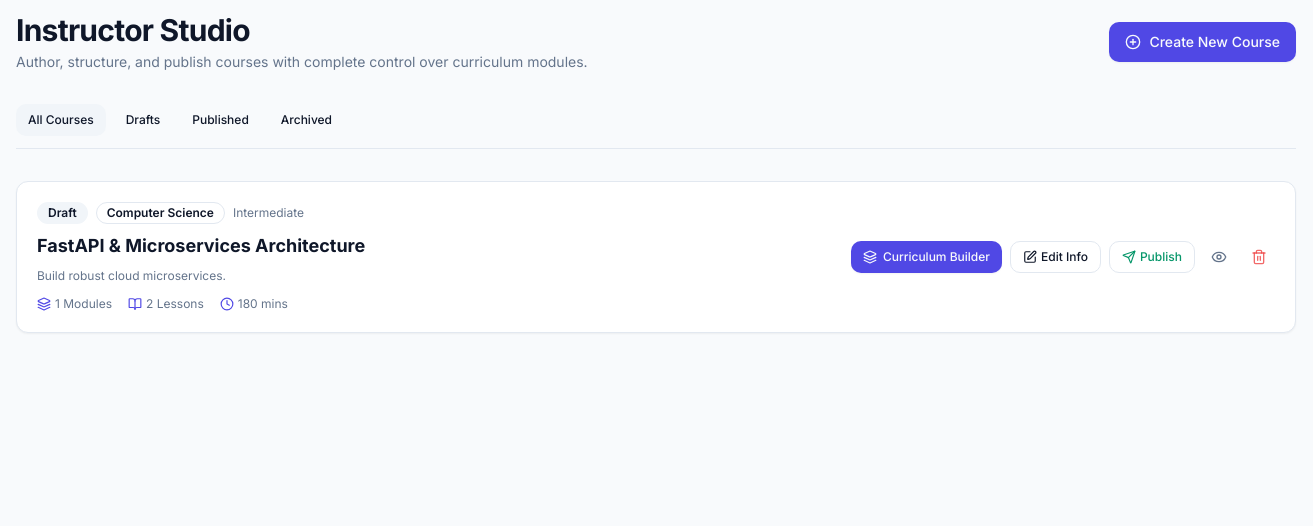
it: Phase 3 Course Management Frontend Tests › InstructorCoursesPage › lists instructor courses and displays publishing completeness error if rules fail
Expected: the link "FastAPI & Microservices Architecture" is shown, [37,235,365,256]
// Click Publish
Click the button "Publish" at (1152, 257), box [1109,241,1195,273]
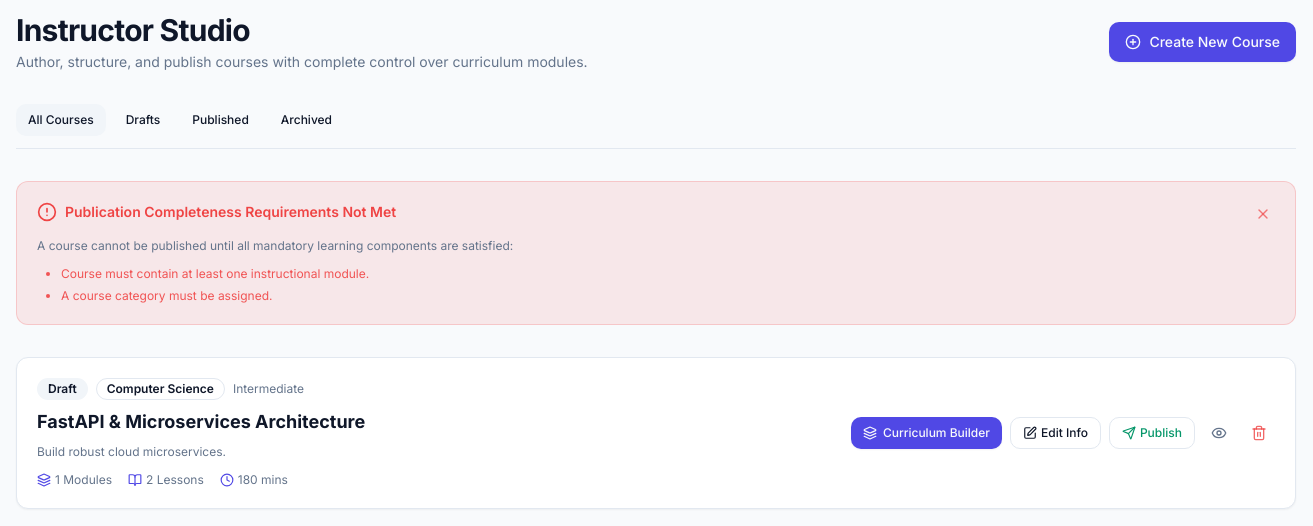
Now the text "Publication Completeness Requirements Not Met" is shown, box [65,202,396,222]
Now the list item "Course must contain at least one instructional module." is shown, box [61,266,369,281]
